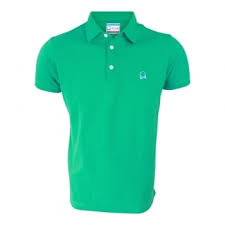S_polo shirt: (35, 15, 195, 208)
